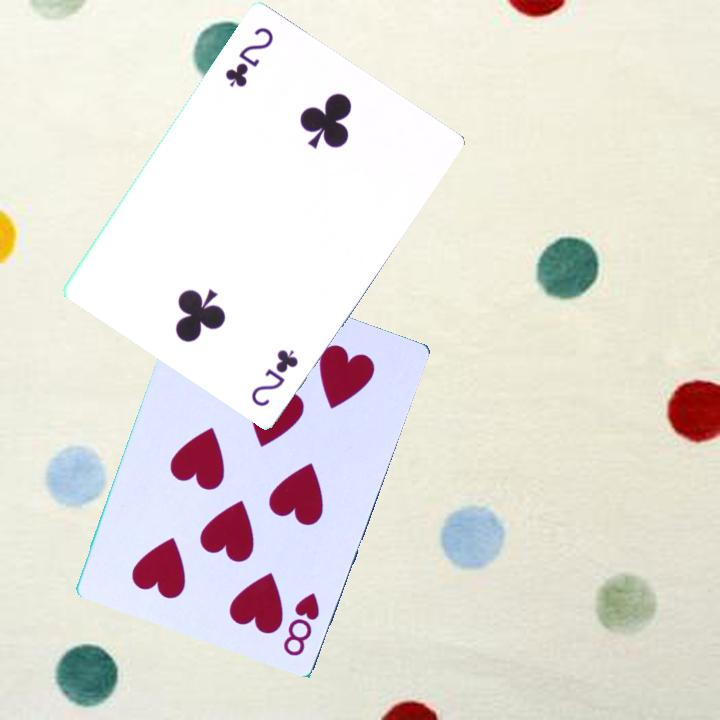2c: (221, 22, 277, 90), (247, 345, 302, 409)
8h: (279, 588, 322, 659)
